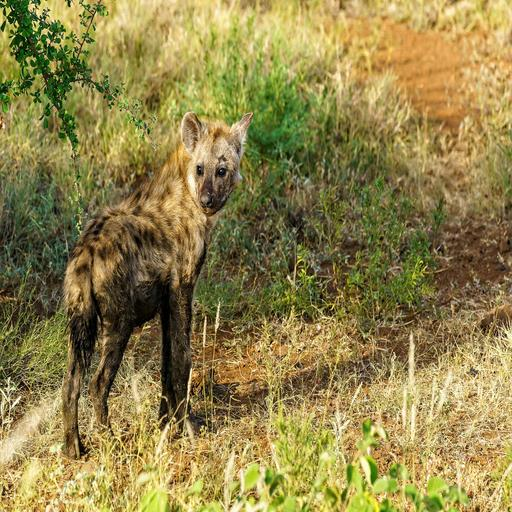Hyena: (58, 105, 252, 468)
